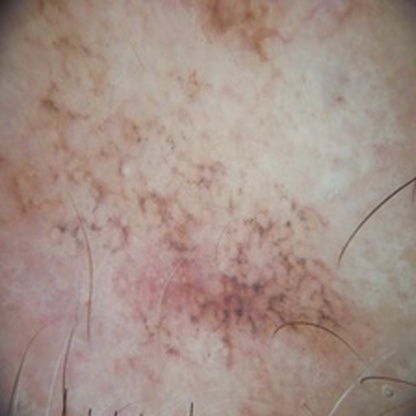malignant: (95, 180, 360, 364)
